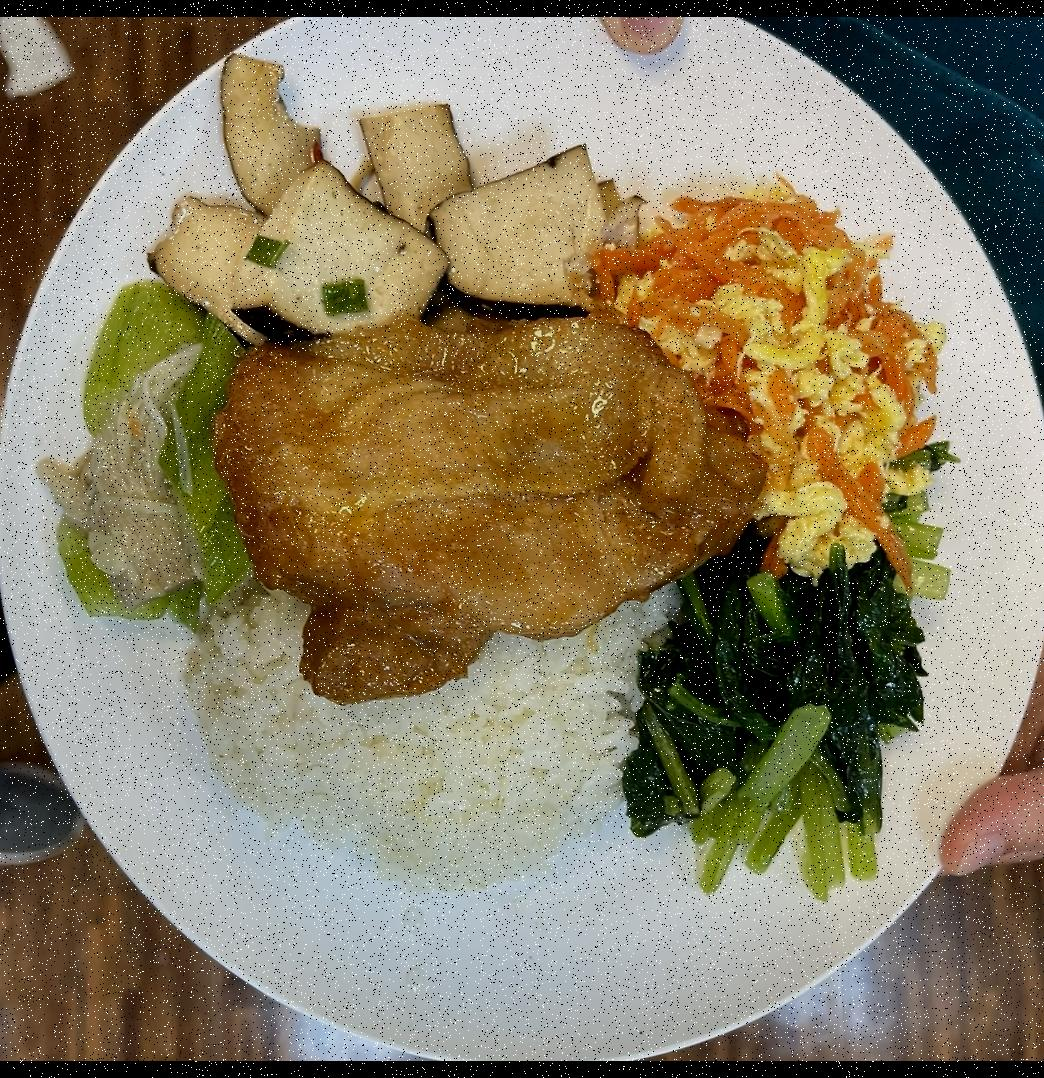grilled chicken leg steak: (232, 299, 765, 703)
plate: (0, 17, 1044, 1058)
side dish: (150, 44, 616, 348), (598, 191, 948, 573), (624, 536, 929, 900), (49, 279, 263, 621)
white rice: (210, 586, 670, 891)
